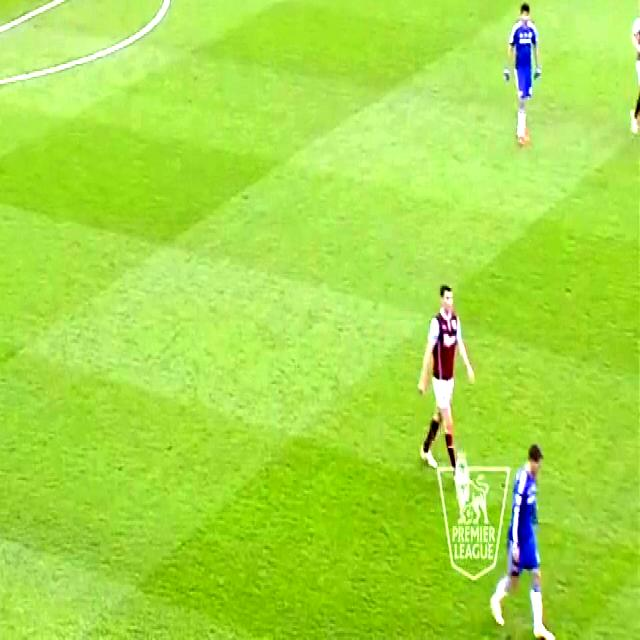soccer-player: (411, 256, 482, 476), (489, 426, 559, 640), (496, 0, 547, 149), (618, 0, 637, 142)
